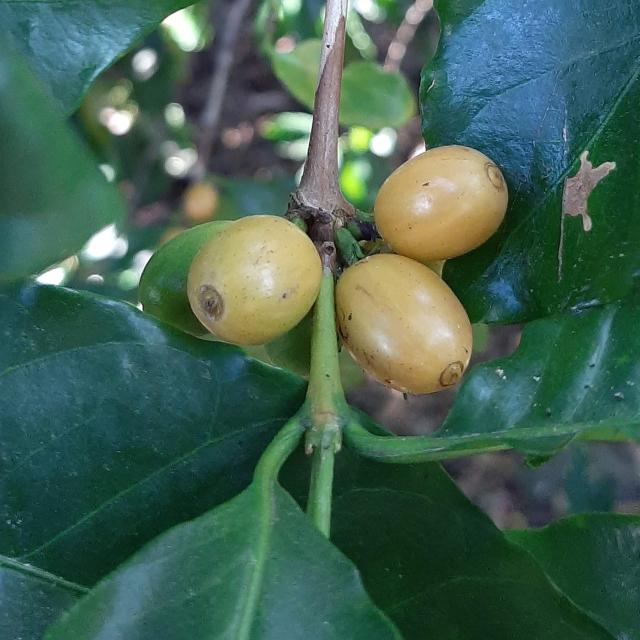green: (187, 215, 322, 346), (139, 221, 231, 336), (264, 313, 311, 376)
red: (335, 254, 473, 394), (375, 145, 509, 263)
